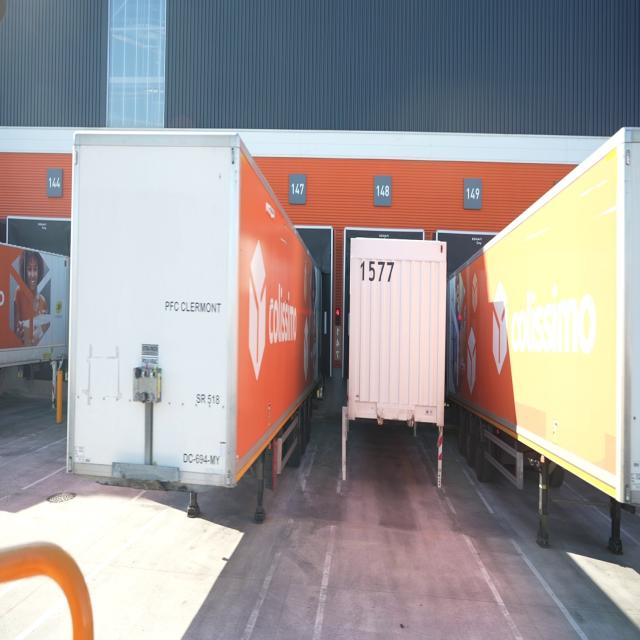Code: (358, 256, 398, 290)
